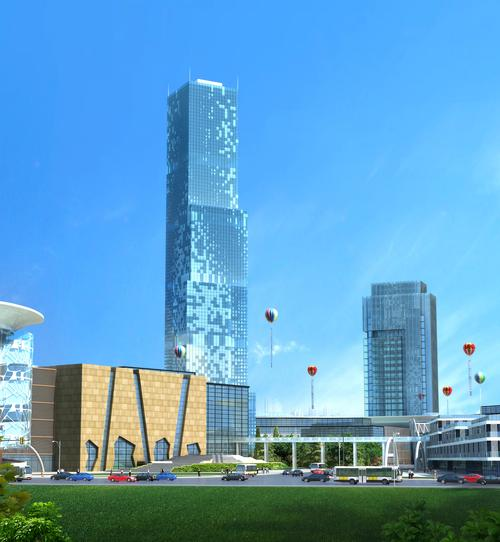buildings: (38, 67, 261, 360), (21, 339, 280, 486), (154, 75, 259, 380), (346, 261, 442, 437)
